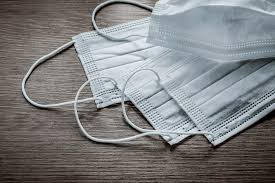flumask: (148, 1, 275, 61)
